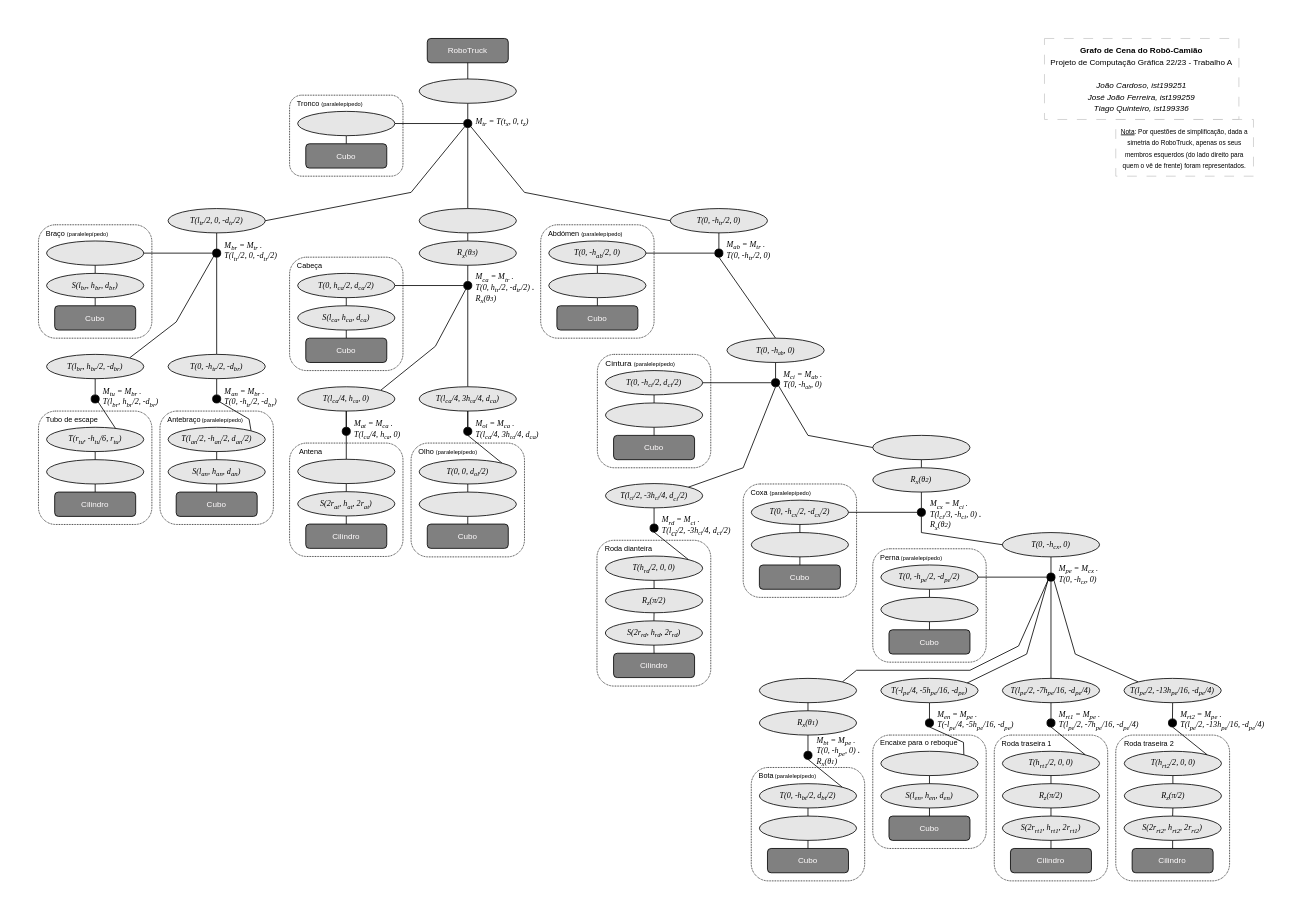
This 1291x919 diagram has some shape labels left out. The shapes that lost their labels are listed below. From the top down, each one's centre as x and y in pixels, then its label:
(467,90): T(t x , 0, t z )
(346,123): S(l tr , h tr , d tr )
(467,220): T(0, h tr /2 , - d tr /2 )
(95,252): T(l br /2, 0 , -d br /2 )
(597,285): S(l ab , h ab , d ab )
(654,414): S(l ci , h ci , d ci )
(921,447): T(l ci /3, -h ci , 0 )
(95,471): S(2r tu , h tu , 2r tu )
(346,471): T(0 , 0 , - r at )
(467,503): S(l ol , h ol , d ol )
(799,544): S(l cx , h cx , d cx )
(929,609): S(l pe , h pe , d pe )
(808,690): T(0, -h pe , 0 )
(929,763): T(0, 0 , -d en /2)
(808,827): S(l bt , h bt , d bt )
